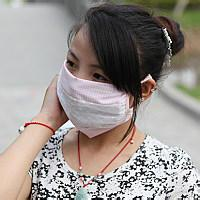face_mask: (60, 25, 130, 126)
